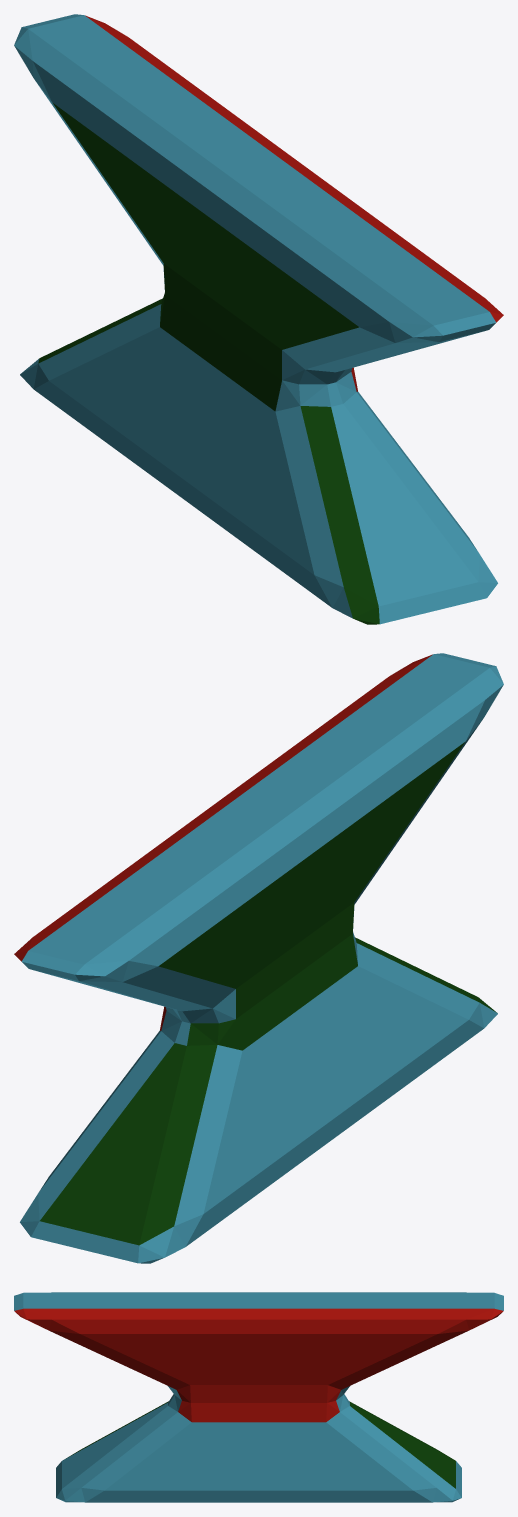
Rendered from anvil.obj.
The picture shows the model from 3 angles, top to bottom: view 1: azimuth 30°, elevation 25°; view 2: azimuth 150°, elevation 25°; view 3: azimuth 270°, elevation 25°; orthographic projection. The views are drawn at different scales.
Parts seen in each view (by area): view 1: Cube; view 2: Cube; view 3: Cube.
Part boxes in pixels (x1,y1,x2,y2): Cube: (14, 14, 503, 624); Cube: (14, 653, 503, 1263); Cube: (14, 1292, 503, 1502).
Size of the model in its own units: 1.57 by 3.09 by 7.41.
